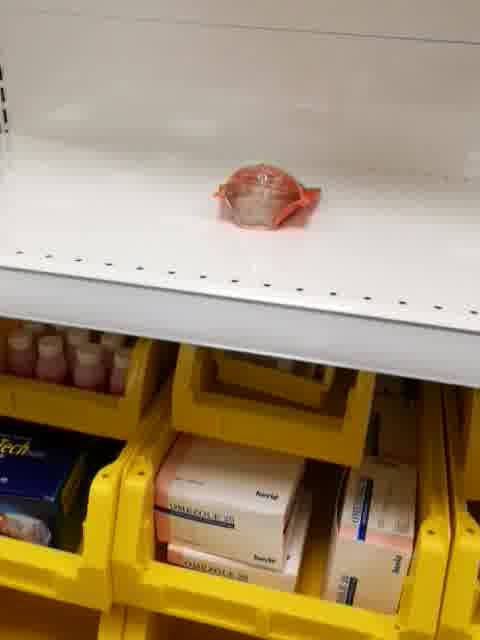whitechia: (213, 159, 322, 233)
